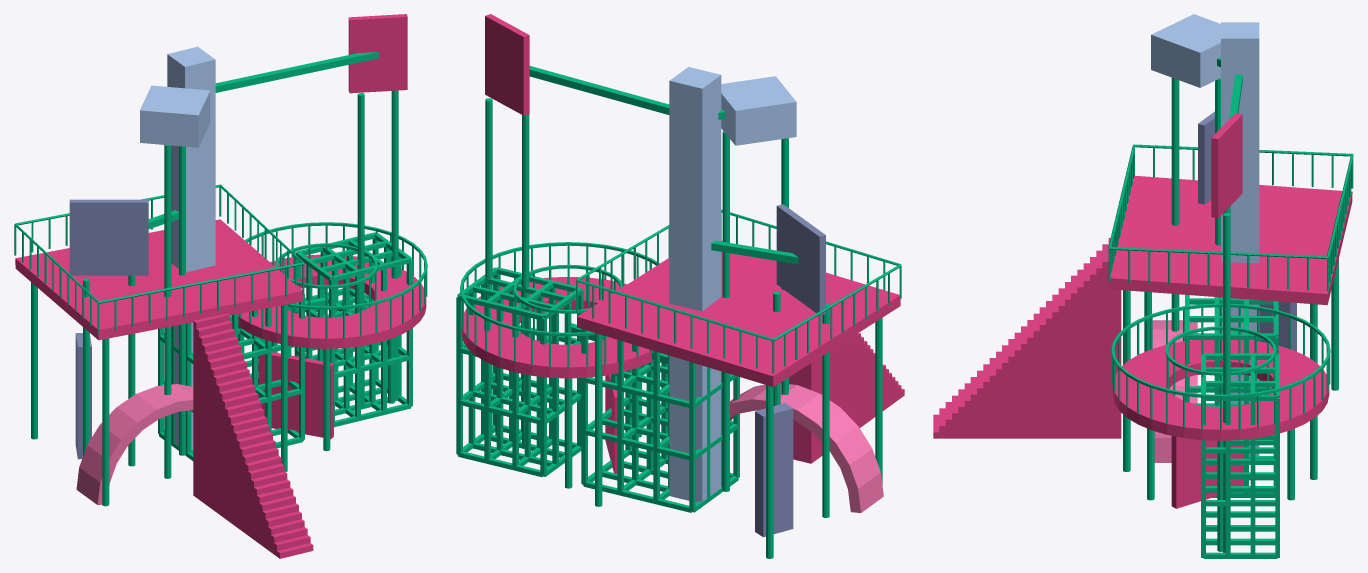
File: folie_tag_080.glb
3 views of the same model, side by side, from view 1: azimuth 30°, elevation 25°; view 2: azimuth 150°, elevation 25°; view 3: azimuth 270°, elevation 25° (orthographic). The views are drawn at different scales.
Visible parts, largest first — view 1: folie_tag_080_line, folie_tag_080_stairs, folie_tag_080_00_plate, folie_tag_080_04_cage, folie_tag_080_core, folie_tag_080_01_ring, folie_tag_080_05_panel, folie_tag_080_02_cage, folie_tag_080_03_arc, folie_tag_080_08_panel, folie_tag_080_09_block, folie_tag_080_06_panel (+1 smaller); view 2: folie_tag_080_line, folie_tag_080_00_plate, folie_tag_080_core, folie_tag_080_04_cage, folie_tag_080_02_cage, folie_tag_080_01_ring, folie_tag_080_stairs, folie_tag_080_03_arc, folie_tag_080_09_block, folie_tag_080_07_fin, folie_tag_080_05_panel, folie_tag_080_08_panel (+1 smaller); view 3: folie_tag_080_stairs, folie_tag_080_line, folie_tag_080_00_plate, folie_tag_080_01_ring, folie_tag_080_04_cage, folie_tag_080_core, folie_tag_080_09_block, folie_tag_080_02_cage, folie_tag_080_06_panel, folie_tag_080_08_panel, folie_tag_080_03_arc, folie_tag_080_05_panel (+1 smaller).
Part boxes in pixels (x1,y1,x2,y2): folie_tag_080_line: (14, 52, 427, 506); folie_tag_080_stairs: (193, 313, 313, 558); folie_tag_080_00_plate: (15, 219, 303, 340); folie_tag_080_04_cage: (294, 232, 412, 427); folie_tag_080_core: (167, 46, 215, 449); folie_tag_080_01_ring: (238, 254, 426, 348); folie_tag_080_05_panel: (69, 199, 148, 275); folie_tag_080_02_cage: (158, 294, 304, 460); folie_tag_080_03_arc: (76, 384, 193, 504); folie_tag_080_08_panel: (348, 14, 407, 93); folie_tag_080_09_block: (140, 85, 210, 147); folie_tag_080_06_panel: (258, 352, 333, 438); folie_tag_080_line: (460, 66, 901, 558); folie_tag_080_00_plate: (577, 240, 900, 386); folie_tag_080_core: (669, 67, 721, 502); folie_tag_080_04_cage: (456, 267, 583, 477); folie_tag_080_02_cage: (581, 329, 739, 512); folie_tag_080_01_ring: (461, 277, 653, 378); folie_tag_080_stairs: (781, 333, 904, 463); folie_tag_080_03_arc: (730, 383, 883, 512); folie_tag_080_09_block: (721, 76, 796, 145); folie_tag_080_07_fin: (755, 403, 793, 537); folie_tag_080_05_panel: (776, 204, 825, 314); folie_tag_080_08_panel: (485, 14, 529, 115); folie_tag_080_stairs: (933, 238, 1121, 438); folie_tag_080_line: (1108, 57, 1353, 552); folie_tag_080_00_plate: (1109, 175, 1352, 305); folie_tag_080_01_ring: (1113, 340, 1329, 440); folie_tag_080_04_cage: (1201, 353, 1279, 558); folie_tag_080_core: (1221, 22, 1259, 455); folie_tag_080_09_block: (1151, 14, 1220, 87); folie_tag_080_02_cage: (1185, 294, 1278, 497); folie_tag_080_06_panel: (1171, 436, 1243, 508); folie_tag_080_08_panel: (1211, 113, 1242, 218); folie_tag_080_03_arc: (1152, 320, 1197, 462); folie_tag_080_05_panel: (1198, 111, 1214, 204).
Bounding box in the file's own units: 12.83 × 13.33 × 12.08.
